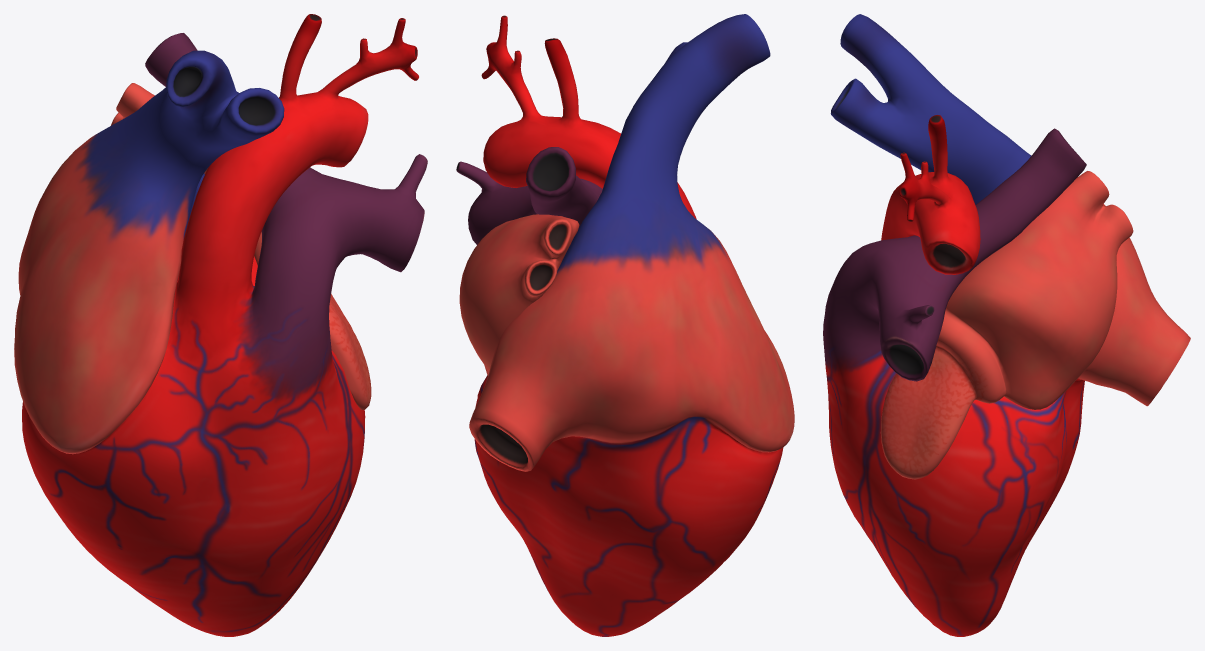
Rendered from jantung.glb.
3 renders of one model, left to right at view 1: azimuth 30°, elevation 25°; view 2: azimuth 150°, elevation 25°; view 3: azimuth 270°, elevation 25°, orthographic. The views are drawn at different scales.
Visible parts, largest first — view 1: node_id30; view 2: node_id30; view 3: node_id30.
Part boxes in pixels (<box>): node_id30: <box>14,14,427,636</box>; node_id30: <box>456,14,794,636</box>; node_id30: <box>823,14,1190,636</box>.
Bounding box in the file's own units: 0.3058 × 0.512 × 0.297.
1 material, 1 textured.
